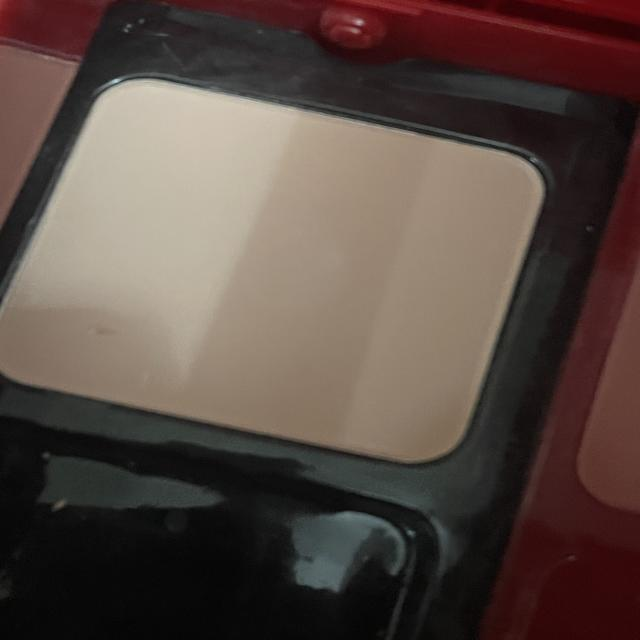powder: (0, 70, 559, 470)
